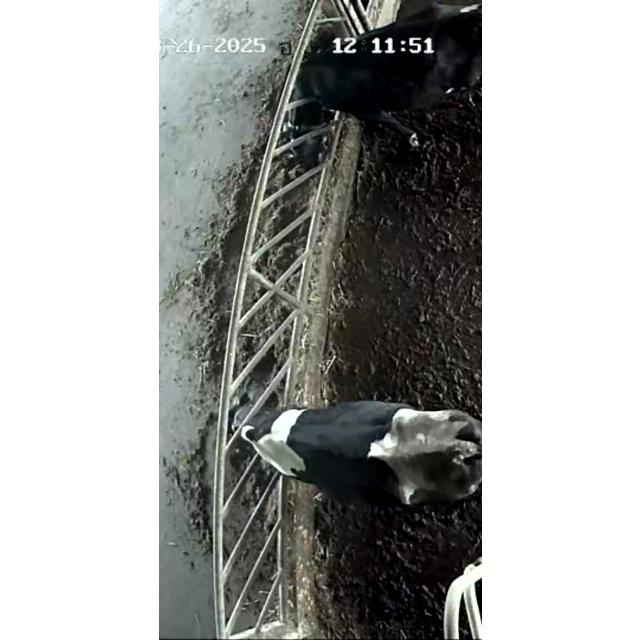eat: (186, 363, 324, 481), (232, 28, 398, 122)
